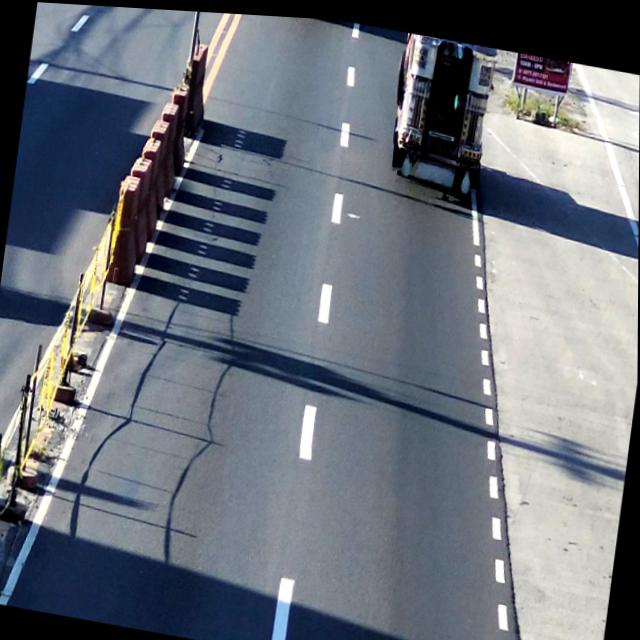Jeep: (389, 26, 494, 179)
